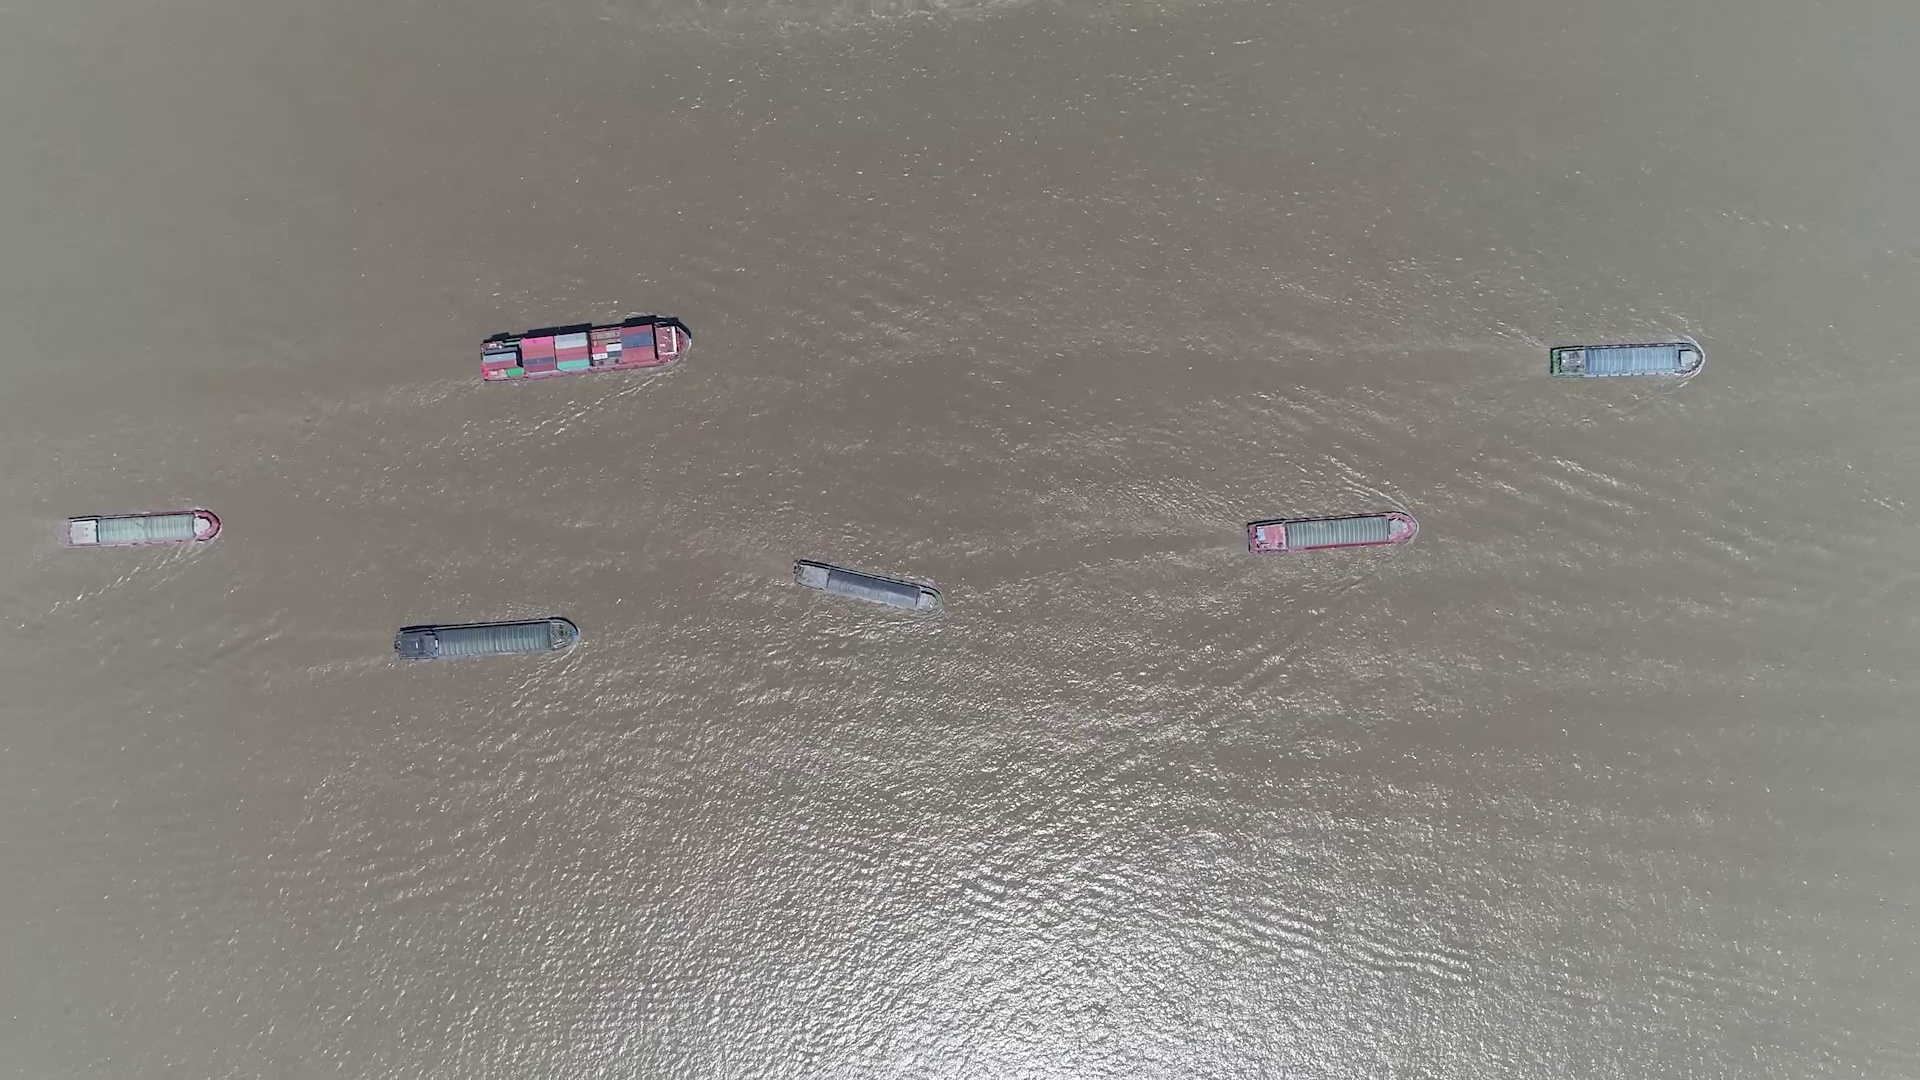ship: (480, 319, 690, 385), (794, 558, 942, 613), (394, 618, 579, 662), (1247, 512, 1418, 555), (66, 512, 220, 549), (1549, 342, 1702, 378)
